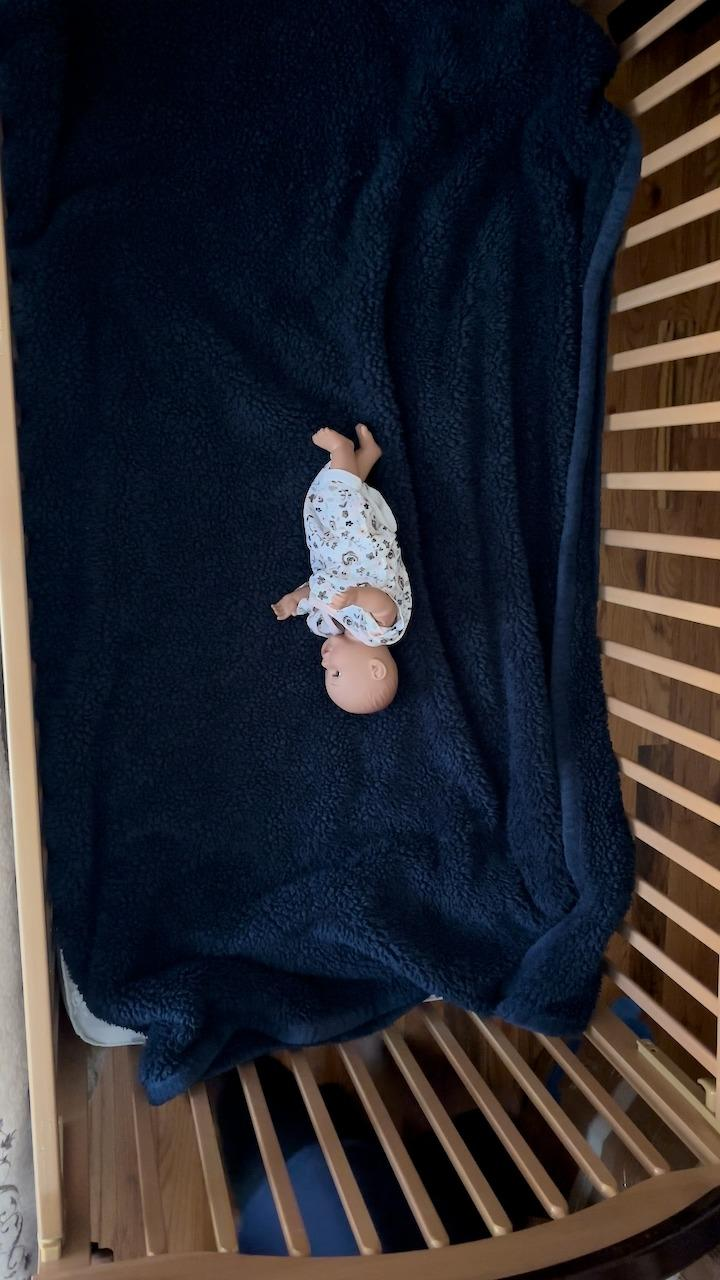baby: (275, 424, 422, 722)
